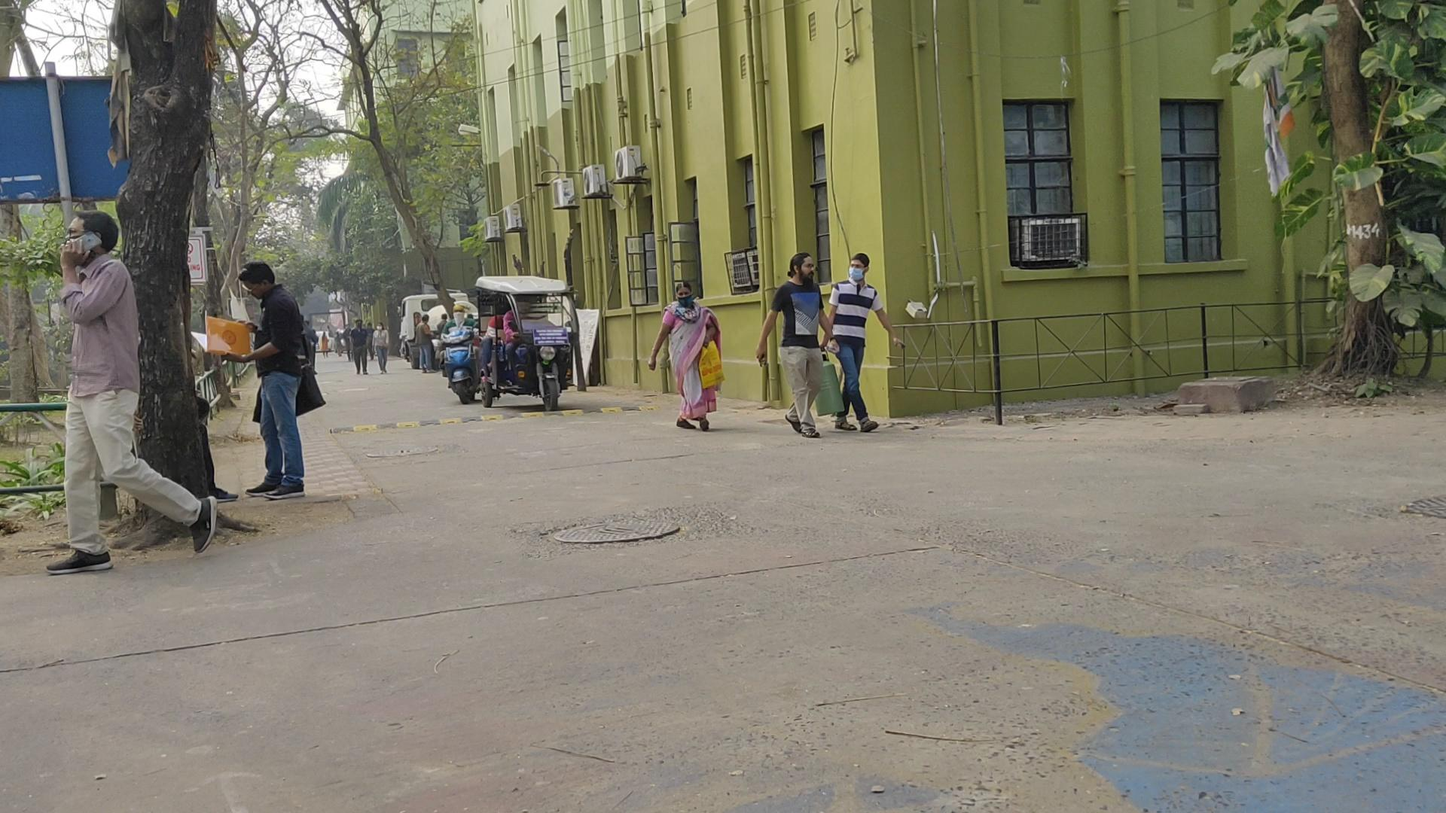Auto: (472, 274, 577, 412)
bike: (439, 303, 477, 405)
